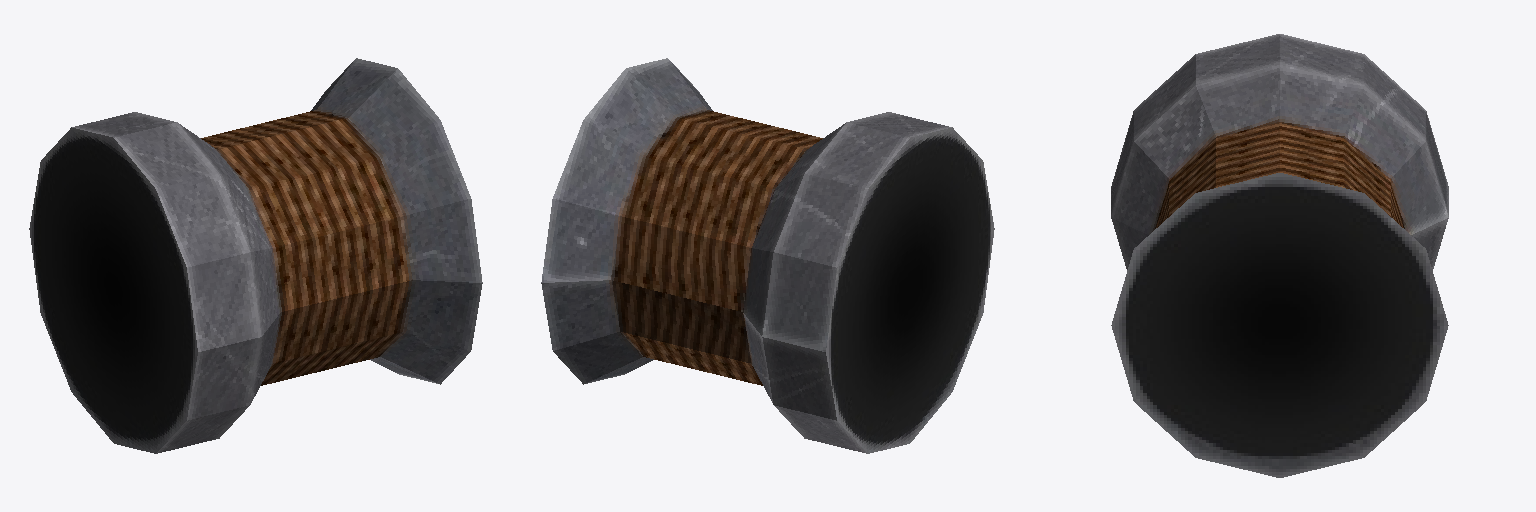
The picture shows the model from 3 angles: view 1: azimuth 30°, elevation 25°; view 2: azimuth 150°, elevation 25°; view 3: azimuth 270°, elevation 25°; orthographic projection.
Parts seen in each view (by area): view 1: Object08; view 2: Object08; view 3: Object08.
Boxes of the visible parts, <box> form: Object08: <box>29,58,482,453</box>; Object08: <box>541,58,994,453</box>; Object08: <box>1111,34,1448,477</box>.
Bounding box in the file's own units: 19.43 × 19.96 × 19.96.
Materials: 1 (1 with a texture image).